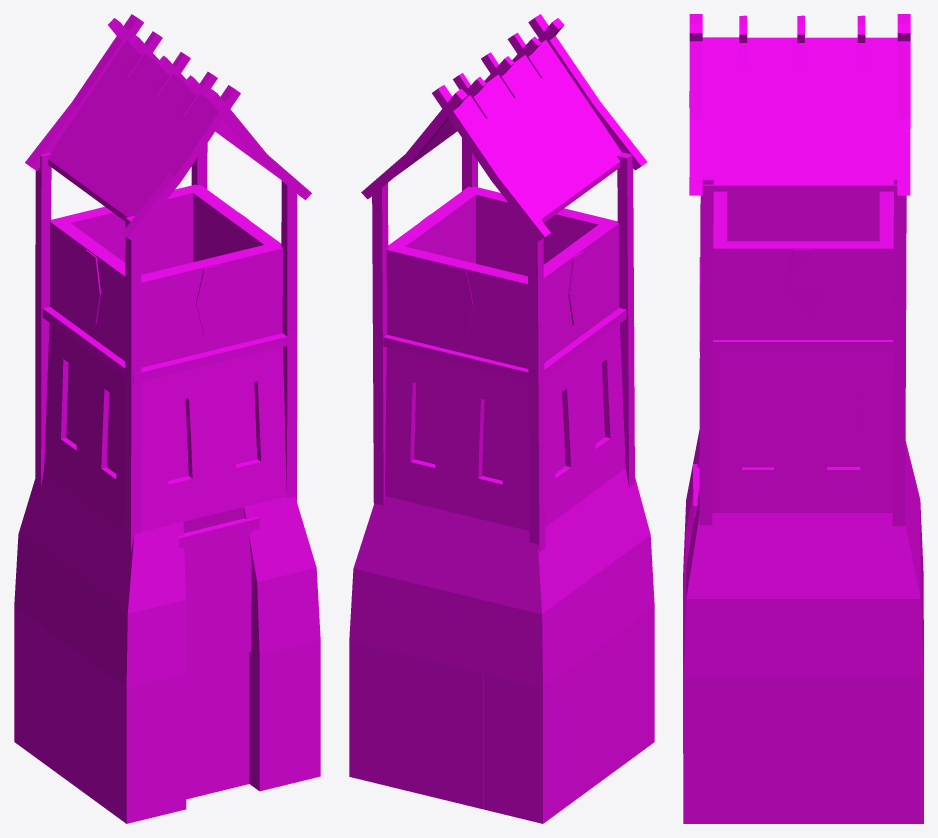
The model's file is tower_stone_3.glb.
The picture shows the model from 3 angles, left to right: view 1: azimuth 30°, elevation 25°; view 2: azimuth 150°, elevation 25°; view 3: azimuth 270°, elevation 25°; orthographic projection. The views are drawn at different scales.
Visible parts, largest first — view 1: Cube_3623-mesh; view 2: Cube_3623-mesh; view 3: Cube_3623-mesh.
Boxes of the visible parts, x1,y1,x2,y2 form: Cube_3623-mesh: [14, 14, 320, 823]; Cube_3623-mesh: [349, 14, 654, 823]; Cube_3623-mesh: [683, 14, 923, 823].
Size of the model in its own units: 7.35 by 25.49 by 7.35.
